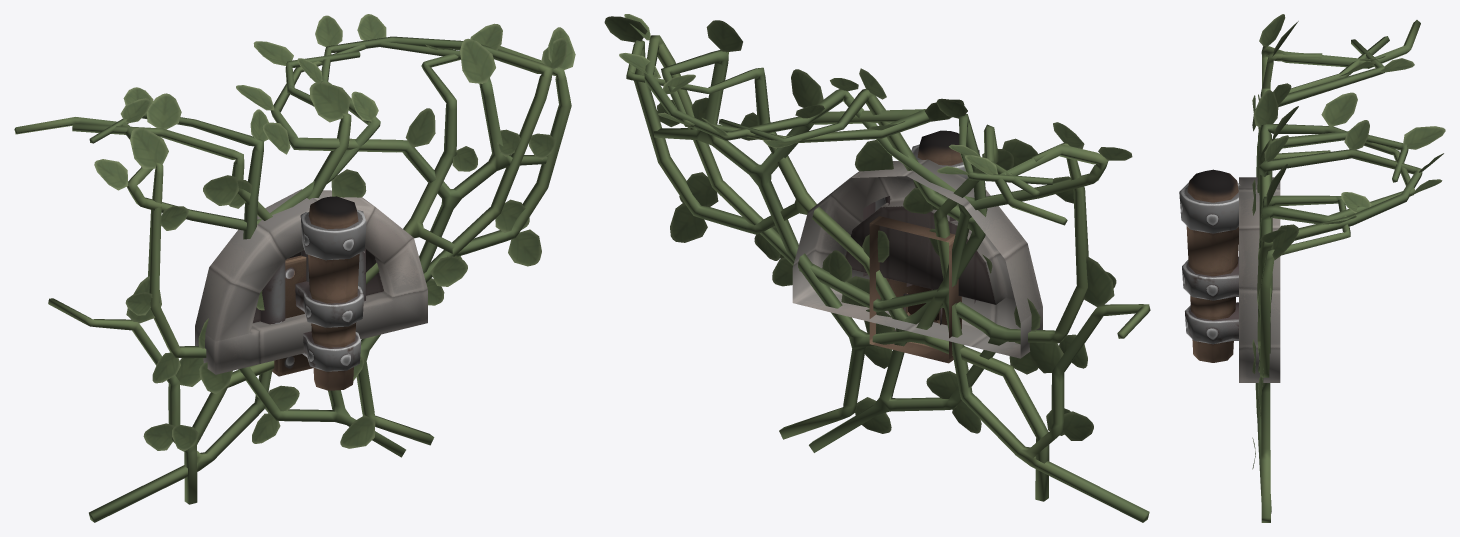
Rendered from decor1_exp1.fbx.
3 renders of one model, left to right at view 1: azimuth 30°, elevation 25°; view 2: azimuth 150°, elevation 25°; view 3: azimuth 270°, elevation 25°, orthographic. The views are drawn at different scales.
Parts seen in each view (by area): view 1: Vine_2, Vine_1, Vine_3, window_low.001, torch_low.001; view 2: Vine_1, Vine_2, Vine_3, window_low.001, torch_low.001; view 3: torch_low.001, Vine_2, Vine_3, Vine_1, window_low.001.
Boxes of the visible parts, <box> form: Vine_2: <box>89,27,575,457</box>; Vine_1: <box>14,15,566,522</box>; Vine_3: <box>72,14,547,504</box>; window_low.001: <box>195,189,427,374</box>; torch_low.001: <box>272,196,366,390</box>; Vine_1: <box>624,14,1150,522</box>; Vine_2: <box>604,16,1116,452</box>; Vine_3: <box>619,20,1070,501</box>; window_low.001: <box>792,159,1042,358</box>; torch_low.001: <box>869,130,979,363</box>; torch_low.001: <box>1179,169,1239,362</box>; Vine_2: <box>1255,21,1445,513</box>; Vine_3: <box>1252,36,1442,522</box>; Vine_1: <box>1257,14,1443,388</box>; window_low.001: <box>1239,177,1280,382</box>.
Bounding box in the file's own units: 313 × 232 × 144.
Materials: 1 (1 with a texture image).
